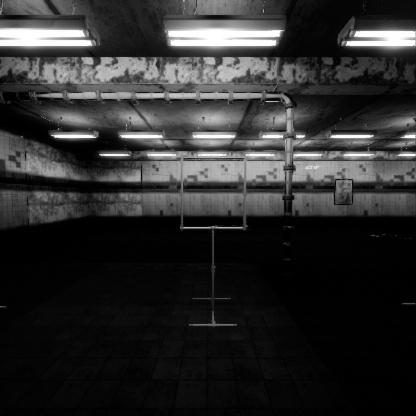gate: (180, 185, 252, 259)
